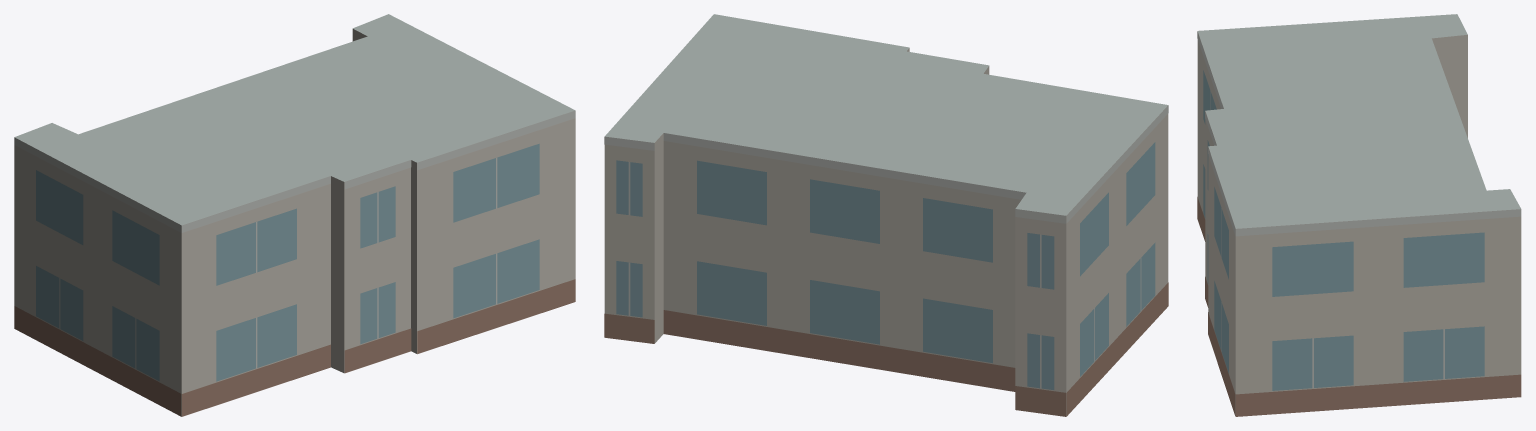
Rendered from survey-upis-32530298.glb.
3 renders of one model, left to right at view 1: azimuth 30°, elevation 25°; view 2: azimuth 150°, elevation 25°; view 3: azimuth 270°, elevation 25°, orthographic. The views are drawn at different scales.
Parts seen in each view (by area): view 1: survey-upis-32530298.tmp; view 2: survey-upis-32530298.tmp; view 3: survey-upis-32530298.tmp.
Boxes of the visible parts, box(x1,y1,x2,y2) form: survey-upis-32530298.tmp: box(14, 14, 575, 416); survey-upis-32530298.tmp: box(604, 14, 1168, 416); survey-upis-32530298.tmp: box(1197, 14, 1521, 416).
Bounding box in the file's own units: 14.97 × 6.1 × 9.54.
